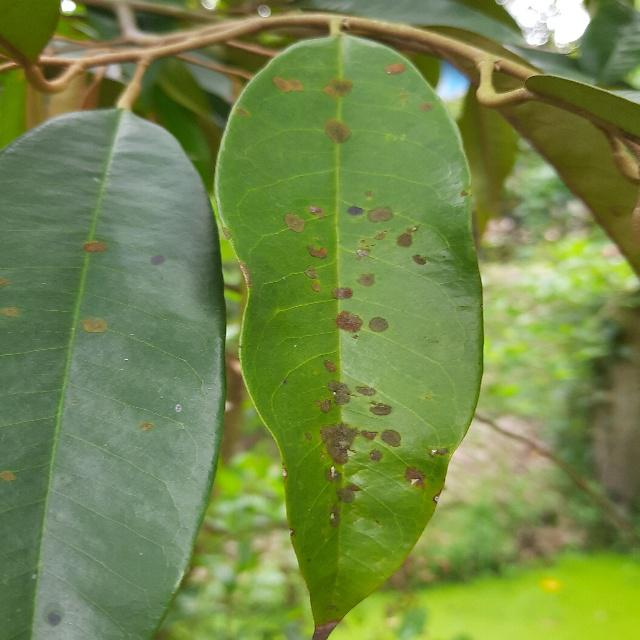Algal Leaf Spot: (211, 25, 492, 639)
